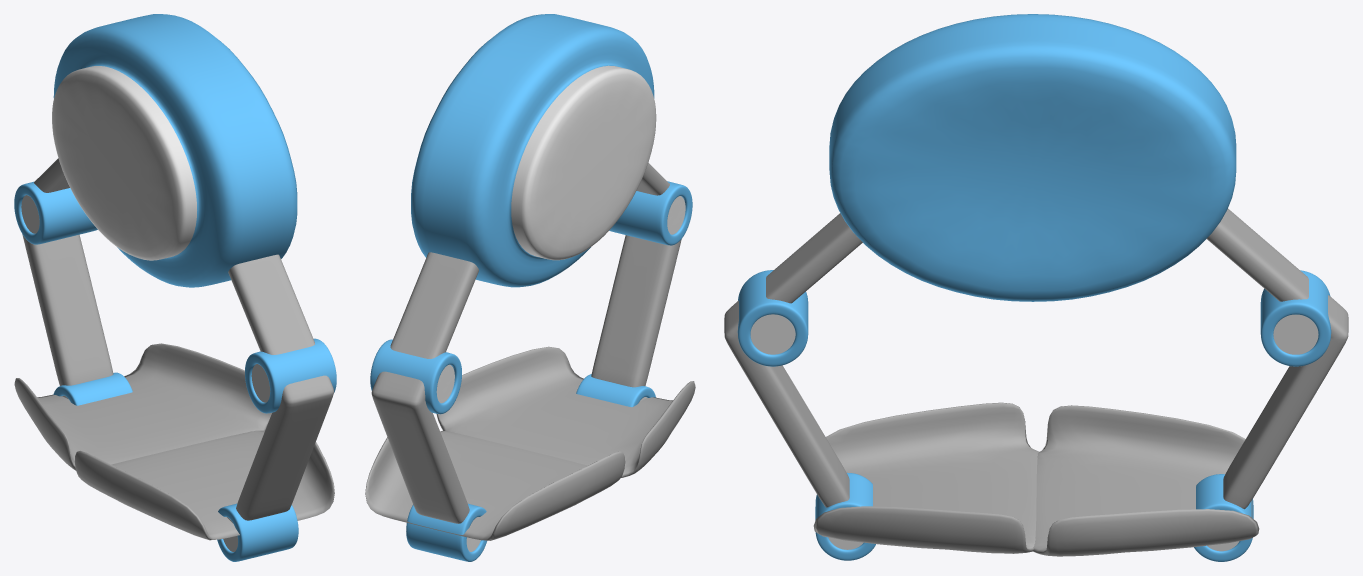
The model's file is newCrene.fbx.
3 views of the same model, side by side, from view 1: azimuth 30°, elevation 25°; view 2: azimuth 150°, elevation 25°; view 3: azimuth 270°, elevation 25° (orthographic). The views are drawn at different scales.
Parts seen in each view (by area): view 1: claw_circle.003, claw_armL.001, claw_armL, claw_jointR, claw_jointL; view 2: claw_circle.003, claw_armL, claw_armL.001, claw_jointL, claw_jointR; view 3: claw_circle.003, claw_armL, claw_armL.001, claw_jointR, claw_jointL.
Part boxes in pixels (x1,y1,x2,y2): claw_circle.003: [52, 14, 297, 287]; claw_armL.001: [74, 254, 334, 540]; claw_armL: [14, 158, 271, 470]; claw_jointR: [217, 338, 336, 561]; claw_jointL: [14, 181, 132, 405]; claw_circle.003: [411, 14, 656, 287]; claw_armL: [365, 252, 625, 540]; claw_armL.001: [436, 163, 695, 477]; claw_jointL: [370, 339, 486, 561]; claw_jointR: [576, 181, 692, 407]; claw_circle.003: [829, 14, 1236, 301]; claw_armL: [1032, 208, 1348, 556]; claw_armL.001: [724, 213, 1039, 553]; claw_jointR: [737, 270, 875, 560]; claw_jointL: [1194, 270, 1331, 561].
Bounding box in the file's own units: 71.6 × 146 × 160.
